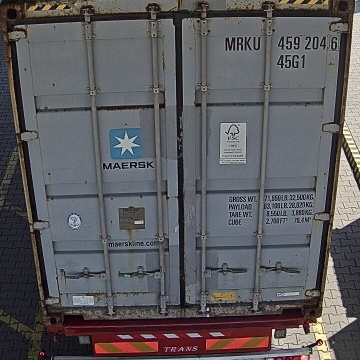serial_id: (225, 36, 339, 50)
